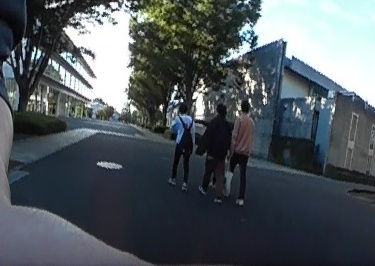person: (197, 101, 235, 202), (226, 96, 259, 204), (169, 103, 191, 188)
